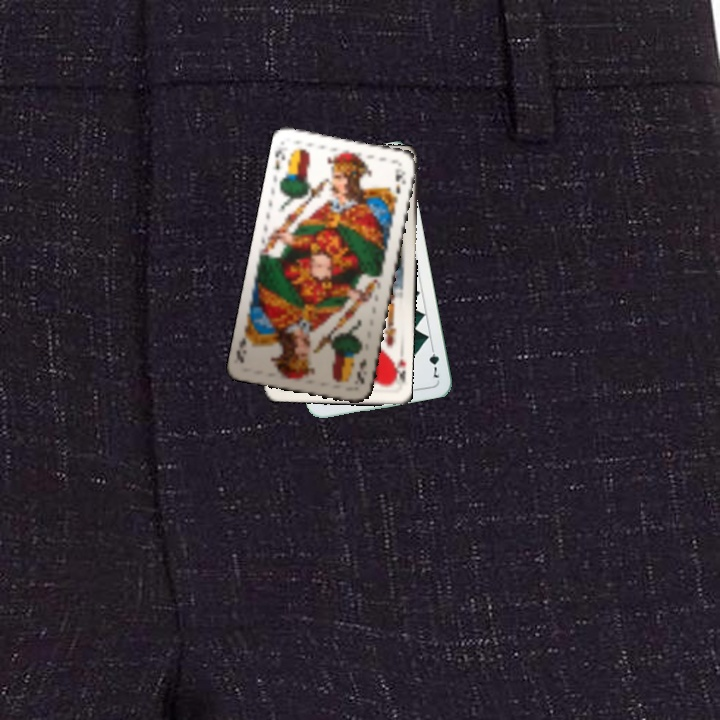EK: (350, 354, 369, 387), (270, 145, 287, 173)
G7: (425, 341, 442, 380)
HK: (388, 353, 408, 389)
